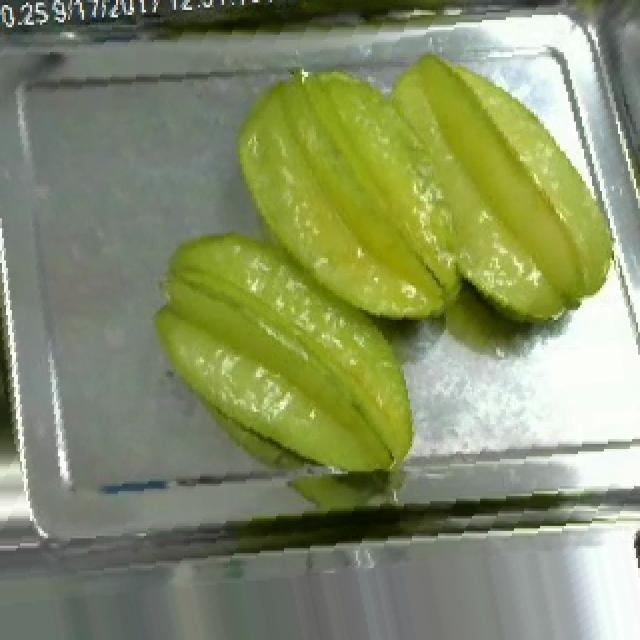fruit: (220, 37, 616, 352), (132, 213, 428, 499)
